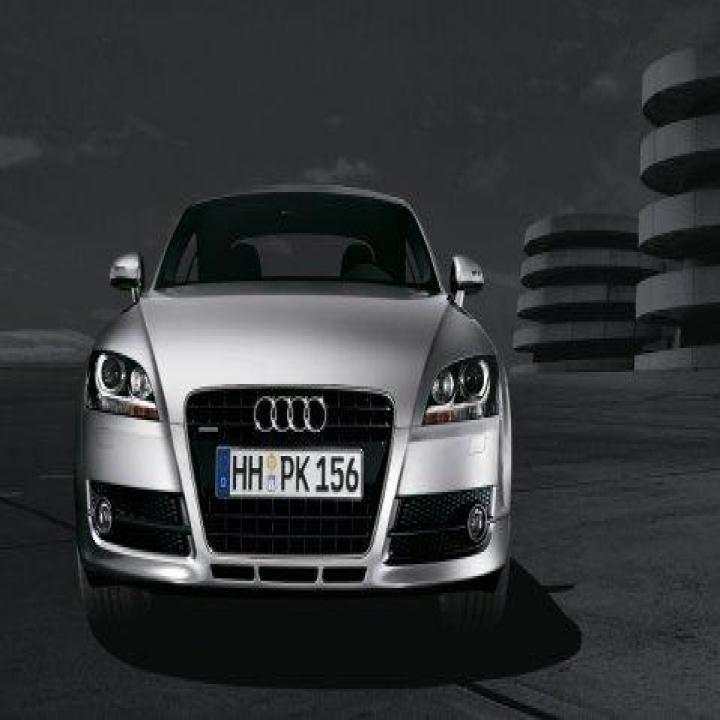car: (72, 180, 514, 653)
plat: (216, 446, 363, 499)
